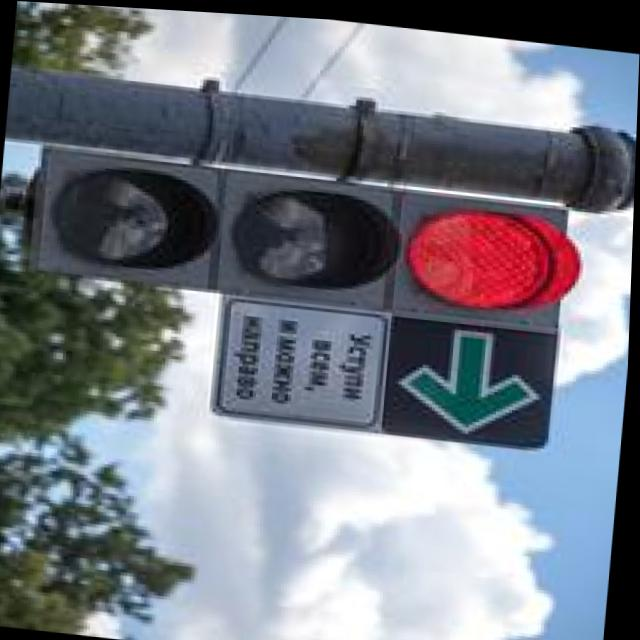red_light: (421, 147, 584, 367)
